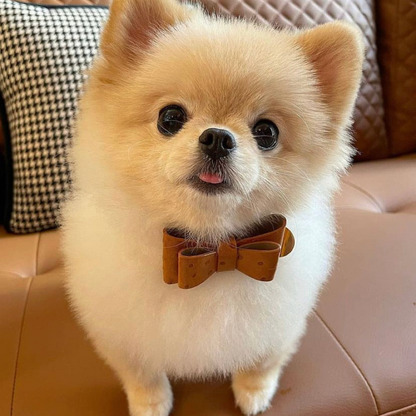Pomeranian: (76, 16, 348, 401)
